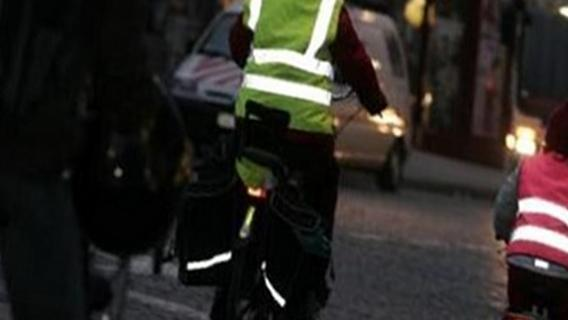Vest: (242, 0, 342, 106)
